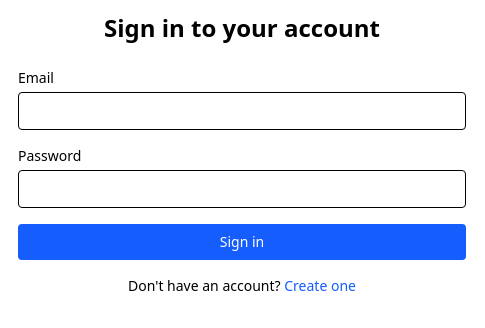
Scenario: LoginPage — validation › shows password error when password is empty
Type "user@test.com" into the field labelled "Email". click: point(242, 111)
box: [18,92,466,130]
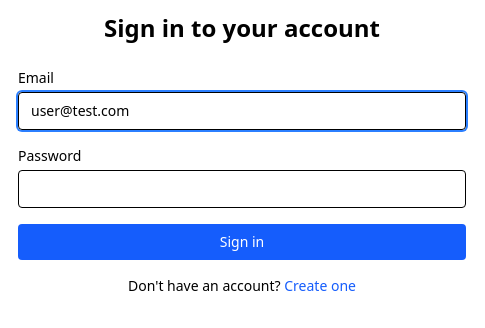
Click the button "Sign in". click: point(242, 242)
box: [18,224,466,260]
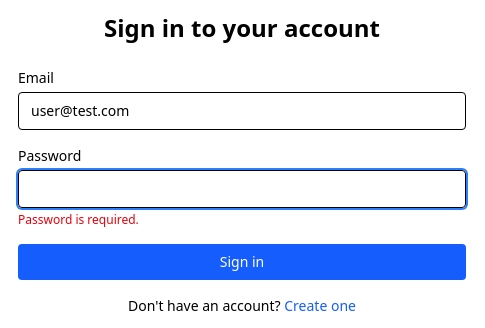
Now the text "Password is required." is shown, box [18,211,139,228]
